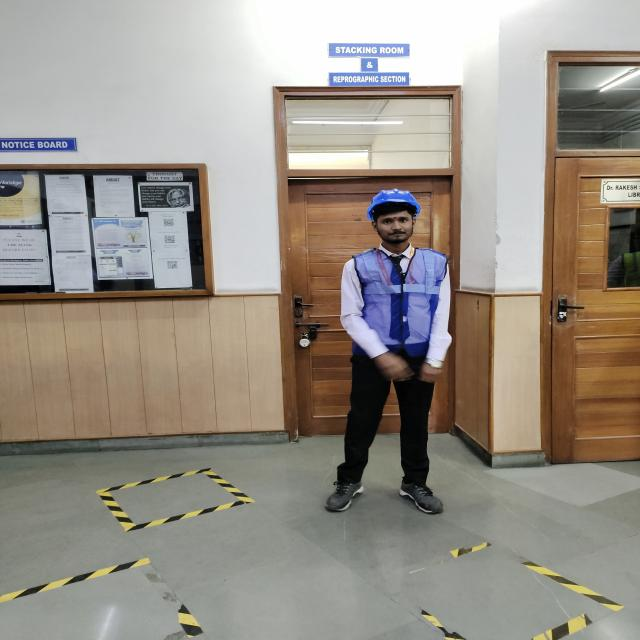safe: (346, 189, 448, 514)
